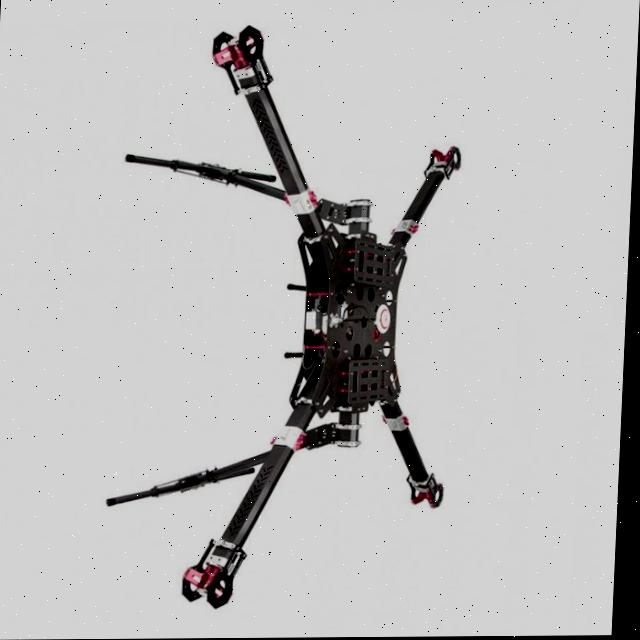drone: (0, 0, 618, 640)
